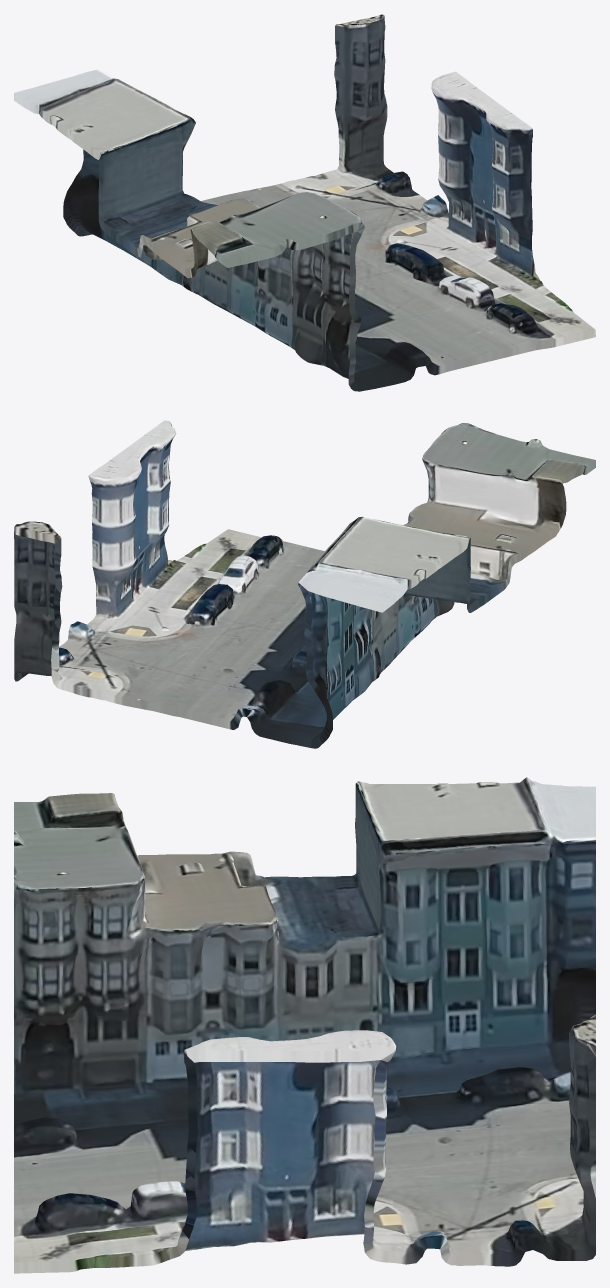
File: z20-167732-405197-h0-yup-uvflip-v3-world.glb
3 views of the same model, one above another, from view 1: azimuth 30°, elevation 25°; view 2: azimuth 150°, elevation 25°; view 3: azimuth 270°, elevation 25° (orthographic). The views are drawn at different scales.
Bounding box in the file's own units: 30.2 × 14.64 × 30.32.
Materials: 1 (1 with a texture image).
